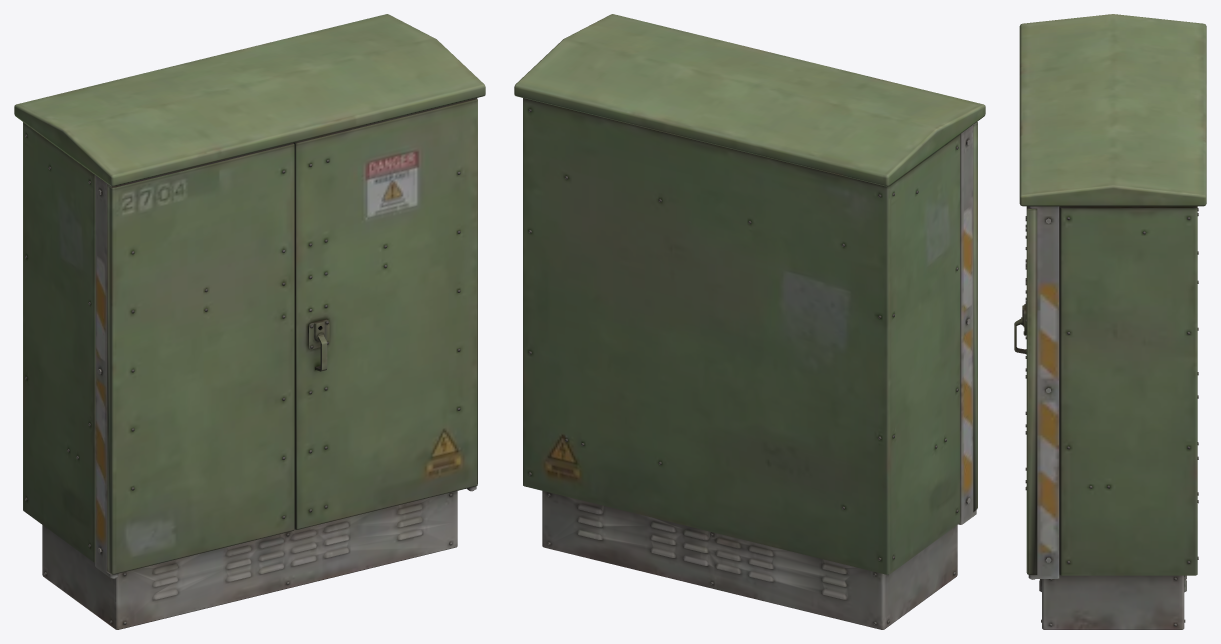
Rendered from utility_box_02.glb.
3 renders of one model, left to right at view 1: azimuth 30°, elevation 25°; view 2: azimuth 150°, elevation 25°; view 3: azimuth 270°, elevation 25°, orthographic. The views are drawn at different scales.
Visible parts, largest first — view 1: utility_box_02; view 2: utility_box_02; view 3: utility_box_02.
Boxes of the visible parts, x1,y1,x2,y2 form: utility_box_02: [14, 14, 485, 629]; utility_box_02: [514, 14, 985, 629]; utility_box_02: [1014, 14, 1206, 629].
Size of the model in its own units: 0.92 by 1.12 by 0.4319.
1 material, 1 textured.
